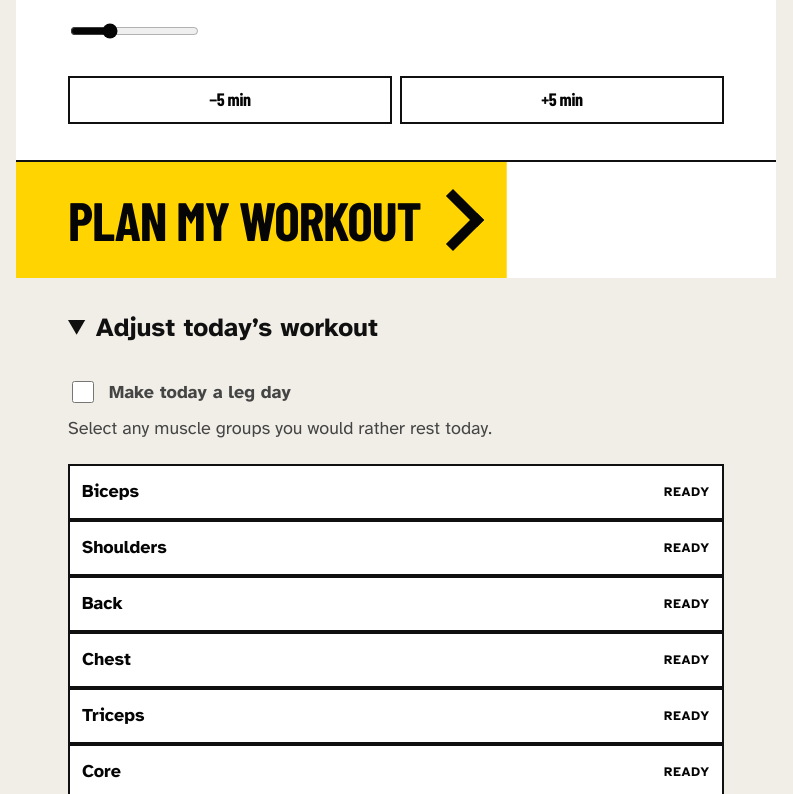
Generator Component › holds the selected planning inputs while a manual leg-day request is loading
(page scrolled)
Click the checkbox labelled "Make today a leg day".
click(83, 392)  # box [72, 381, 94, 403]
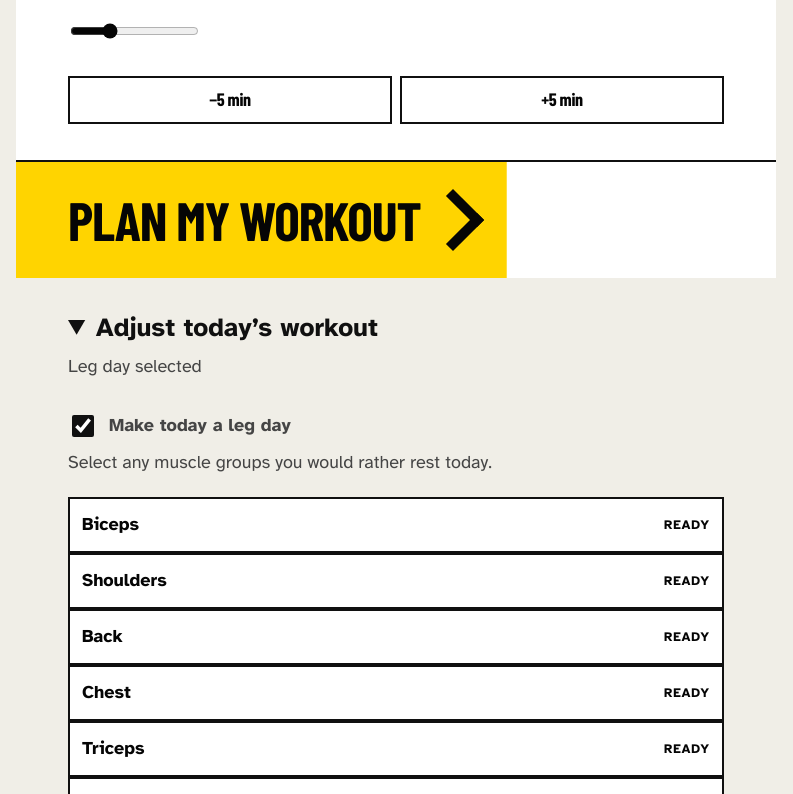
Click the button "Plan my workout".
click(261, 220)  # box [16, 162, 507, 278]
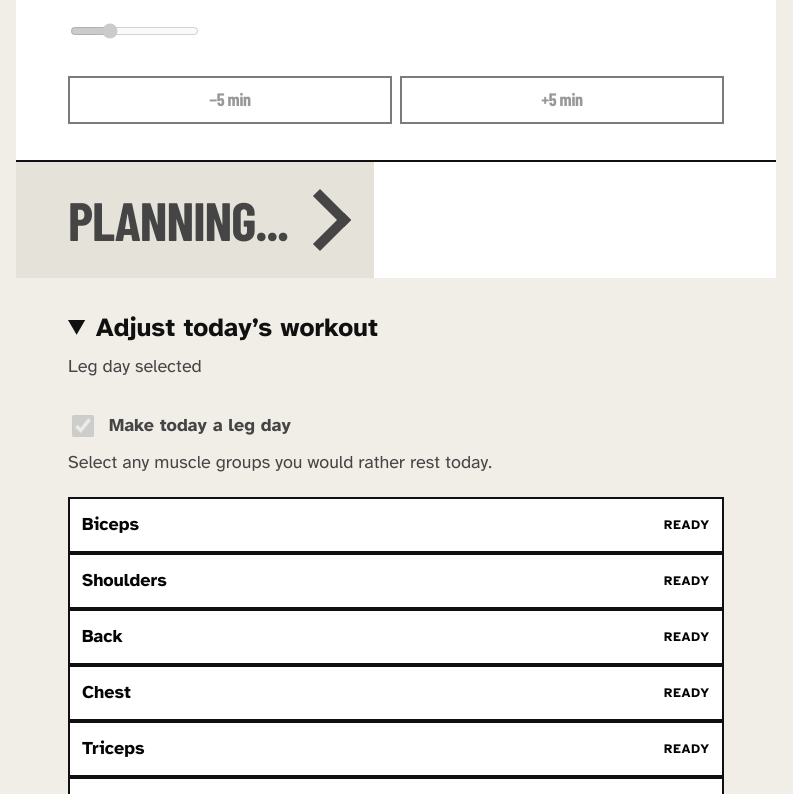
Expected: the button "Planning..." is disabled, [16, 162, 374, 278]
Expected: the checkbox labelled "Make today a leg day" is disabled, [72, 415, 94, 437]
Expected: the slider labelled "Time available 45 min" is disabled, [70, 9, 199, 53]
